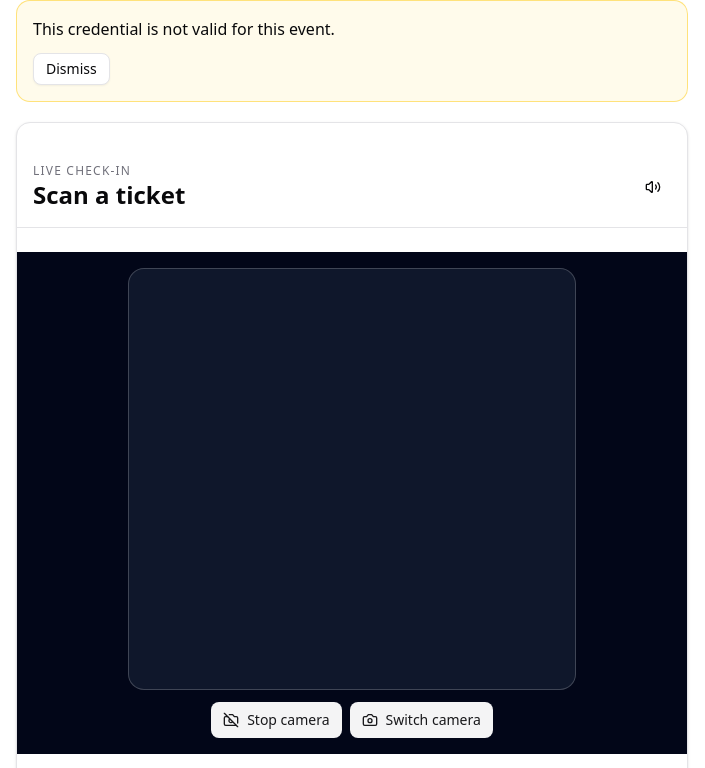
it: check-in scanner › submit_invalidForEvent_outcomeRemainsUntilDismissed
Check: the message shows "not valid for this event", box x1=33 y1=18 x2=335 y2=40
Click the button "Dismiss": (71, 69) x1=33 y1=53 x2=110 y2=85
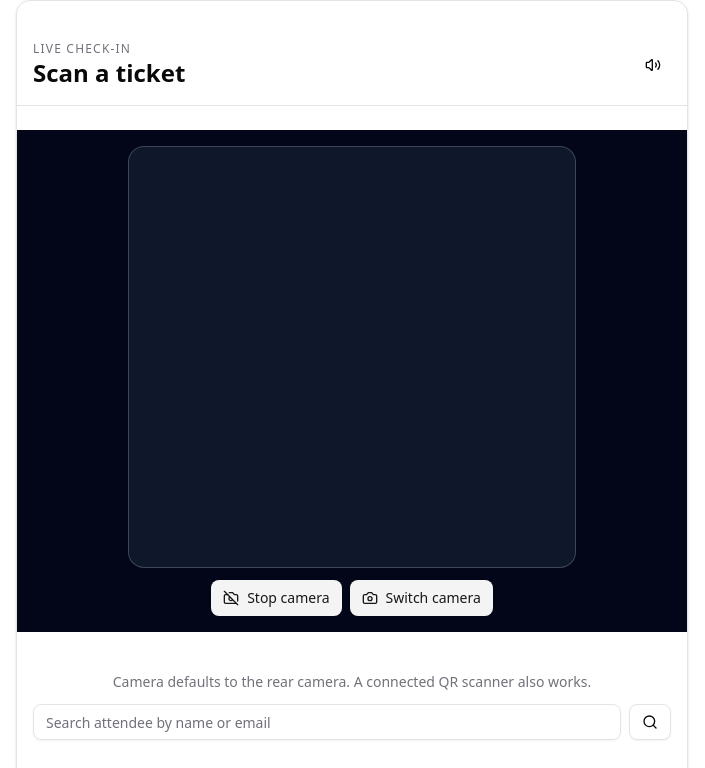
Check: the message "This credential is not valid for this event. Dismiss" is gone
